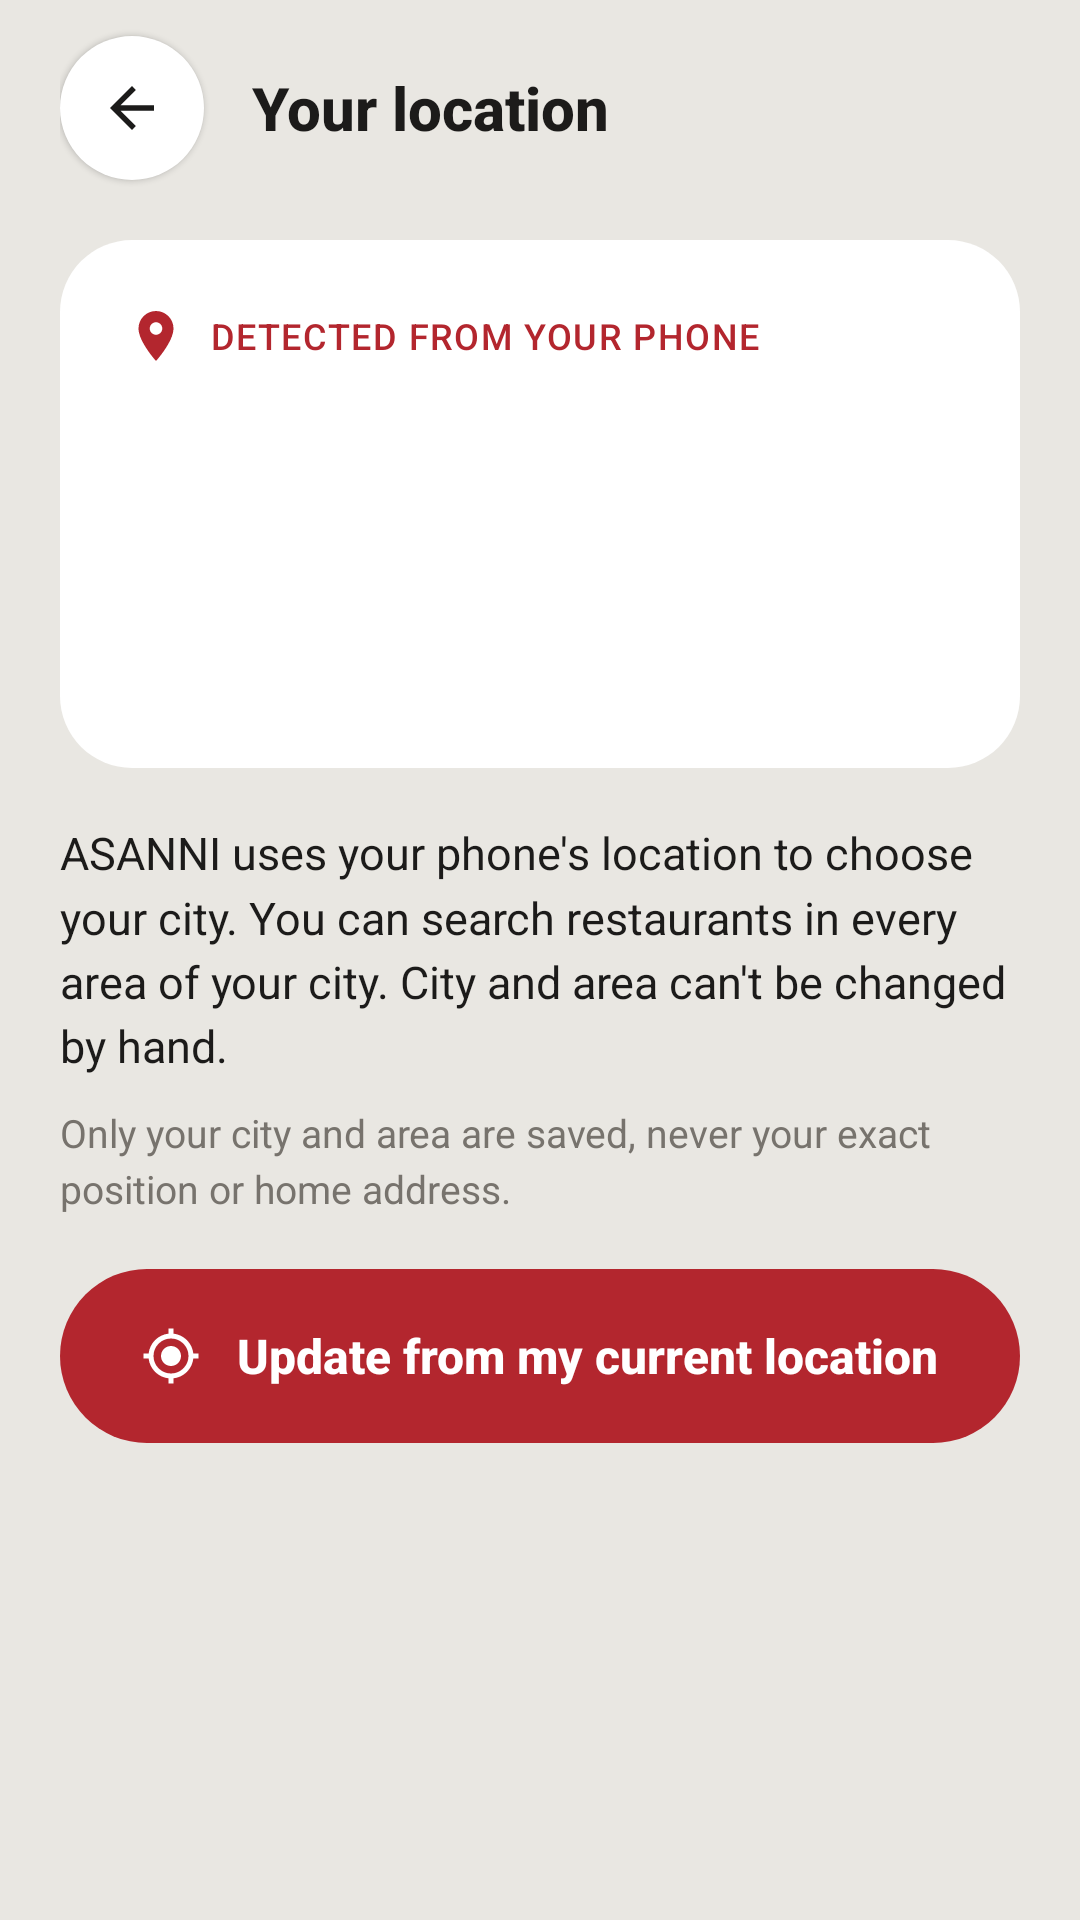

Where icons sit on this 1080px×1920px app screen, as {"x1": x1, "y1": y1, "x2": x2, "y2": y2}:
Back: {"x1": 60, "y1": 36, "x2": 204, "y2": 180}
location pin: {"x1": 138, "y1": 311, "x2": 174, "y2": 361}
